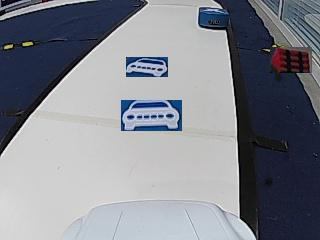prop: (198, 8, 229, 29)
